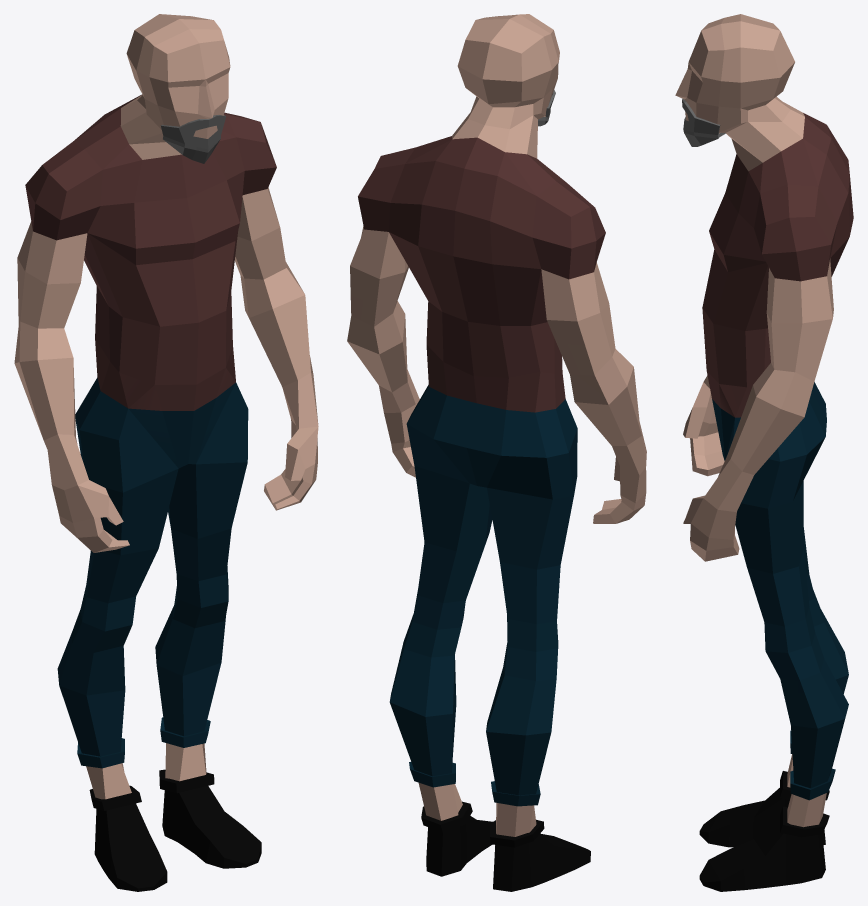
File: instrutor.fbx
The picture shows the model from 3 angles, left to right: view 1: azimuth 30°, elevation 25°; view 2: azimuth 150°, elevation 25°; view 3: azimuth 270°, elevation 25°; orthographic projection.
Parts seen in each view (by area): view 1: corpo; view 2: corpo; view 3: corpo.
Part boxes in pixels (x1,y1,x2,y2): corpo: [14, 14, 318, 891]; corpo: [347, 14, 646, 891]; corpo: [675, 14, 853, 891].
Size of the model in its own units: 14.7 by 42.52 by 8.22.
